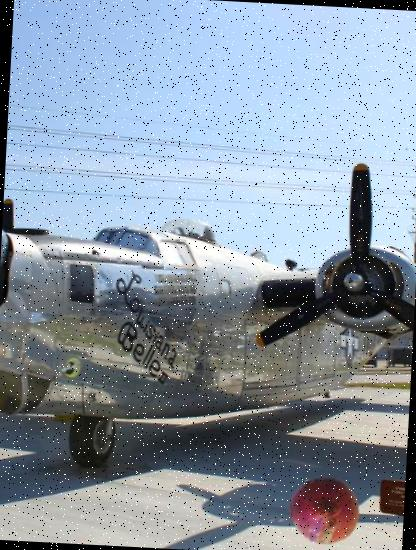Onion: (288, 474, 362, 548)
